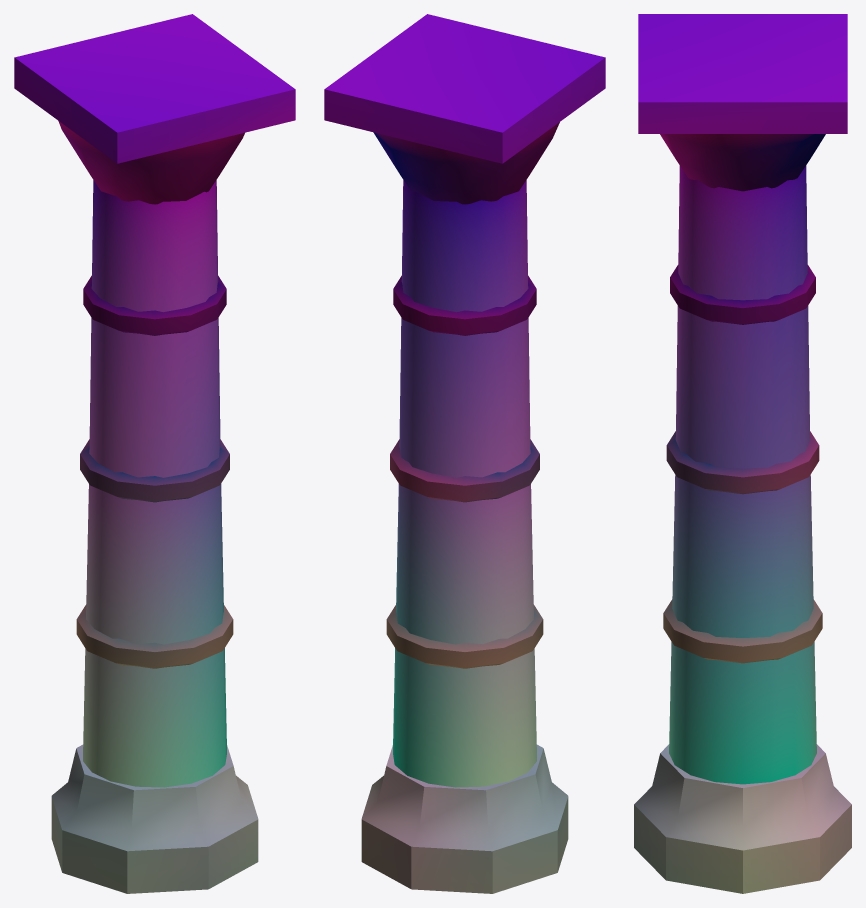
Rendered from comb_pillar_4m.glb.
The picture shows the model from 3 angles, left to right: view 1: azimuth 30°, elevation 25°; view 2: azimuth 150°, elevation 25°; view 3: azimuth 270°, elevation 25°; orthographic projection.
Parts seen in each view (by area): view 1: cp_shaft, cp_abacus, cp_base, cp_capital, cp_band, cp_band.001, cp_band.002; view 2: cp_shaft, cp_abacus, cp_base, cp_capital, cp_band, cp_band.001, cp_band.002; view 3: cp_shaft, cp_abacus, cp_base, cp_capital, cp_band, cp_band.001, cp_band.002.
Part boxes in pixels (x1,y1,x2,y2): cp_shaft: (83,180,226,787); cp_abacus: (14,14,295,163); cp_base: (51,744,258,893); cp_capital: (58,121,244,204); cp_band: (76,604,233,668); cp_band.001: (80,439,229,502); cp_band.002: (83,275,226,335); cp_shaft: (393,180,536,787); cp_abacus: (324,14,605,163); cp_base: (361,744,568,893); cp_capital: (373,122,559,204); cp_band: (386,604,543,668); cp_band.001: (390,439,539,502); cp_band.002: (393,275,536,335); cp_shaft: (669,165,816,784); cp_abacus: (638,14,847,133); cp_base: (634,744,851,893); cp_capital: (660,134,825,191); cp_band: (663,599,822,663); cp_band.001: (666,431,819,494); cp_band.002: (670,265,815,324).
Bounding box in the file's own units: 1 × 4 × 1.
